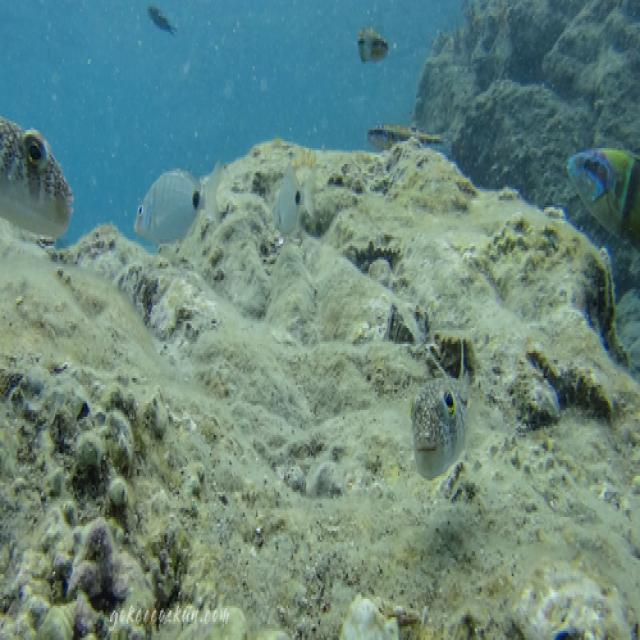Balik: (0, 119, 72, 239), (568, 149, 639, 248), (135, 162, 221, 243), (411, 376, 468, 478), (274, 164, 314, 234), (368, 123, 442, 150), (359, 28, 387, 61), (148, 5, 176, 34)
